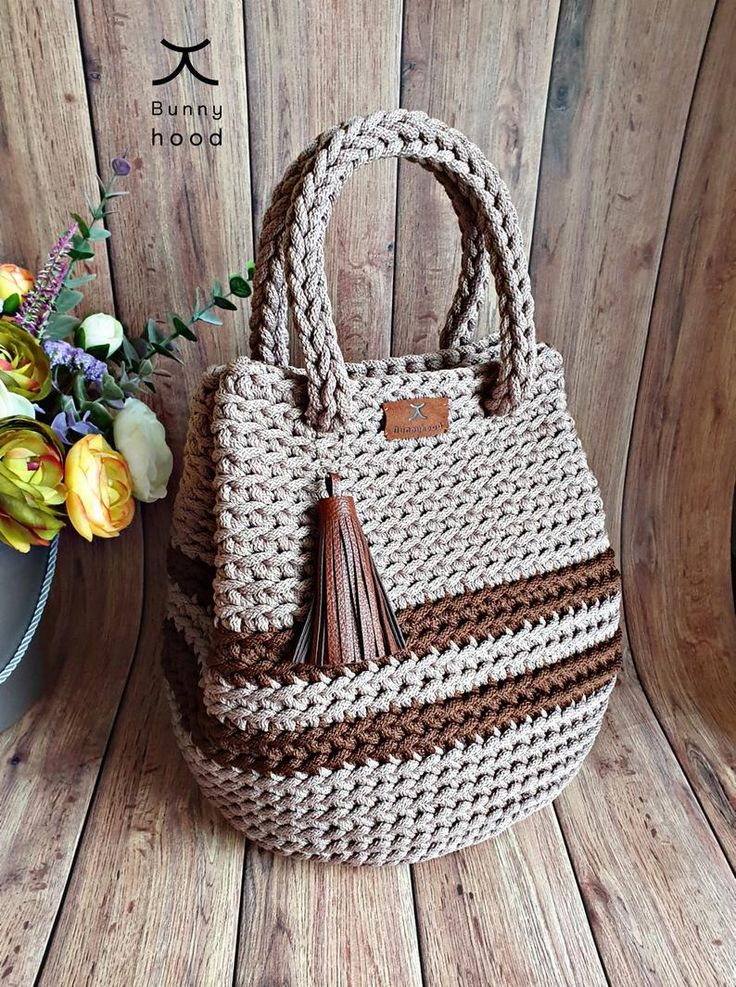cuero: (284, 396, 449, 668)
